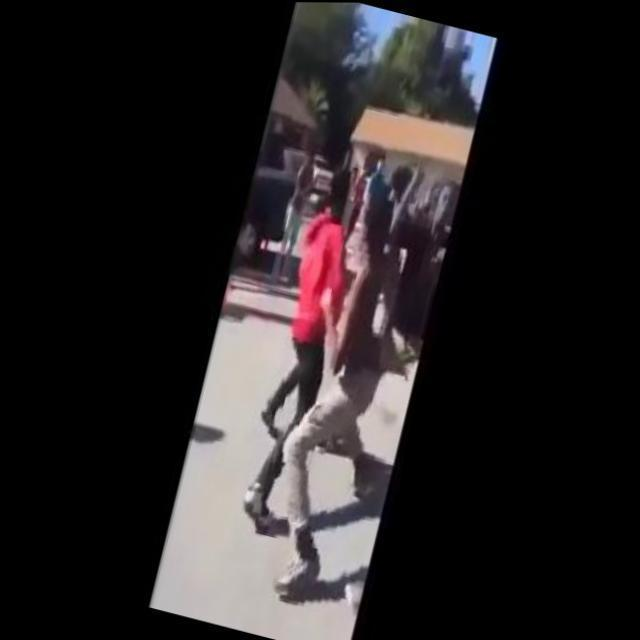fight: (214, 160, 433, 602)
